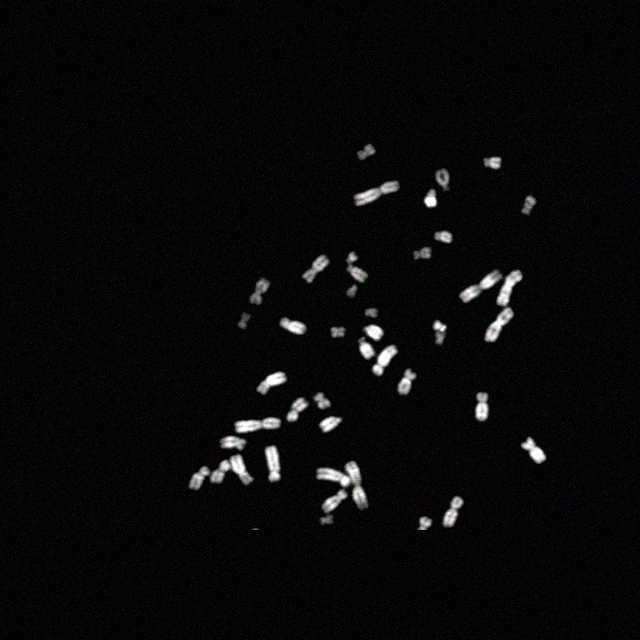chromosome: (461, 270, 502, 302), (354, 180, 400, 208), (346, 460, 368, 510), (485, 306, 515, 342), (498, 270, 524, 306), (520, 436, 546, 464), (373, 345, 397, 375), (257, 372, 287, 396), (230, 454, 252, 486), (304, 254, 328, 282), (316, 466, 349, 486), (235, 418, 280, 432), (443, 497, 463, 527), (322, 491, 348, 514), (266, 446, 280, 482), (398, 369, 417, 395), (189, 466, 209, 490), (251, 279, 269, 305), (287, 398, 307, 420), (280, 318, 306, 334), (211, 460, 229, 482), (220, 437, 246, 451), (476, 392, 488, 420), (321, 417, 342, 433), (314, 392, 332, 410), (347, 266, 367, 282), (359, 339, 375, 359), (363, 324, 382, 340), (436, 170, 449, 192), (357, 145, 375, 159), (522, 196, 536, 214), (434, 230, 452, 243), (425, 189, 437, 207), (484, 157, 502, 169), (414, 247, 431, 259), (433, 319, 447, 331), (239, 314, 249, 328), (435, 332, 445, 346), (347, 253, 358, 264), (346, 286, 358, 296), (365, 308, 377, 318), (332, 327, 344, 337), (321, 516, 333, 524)
